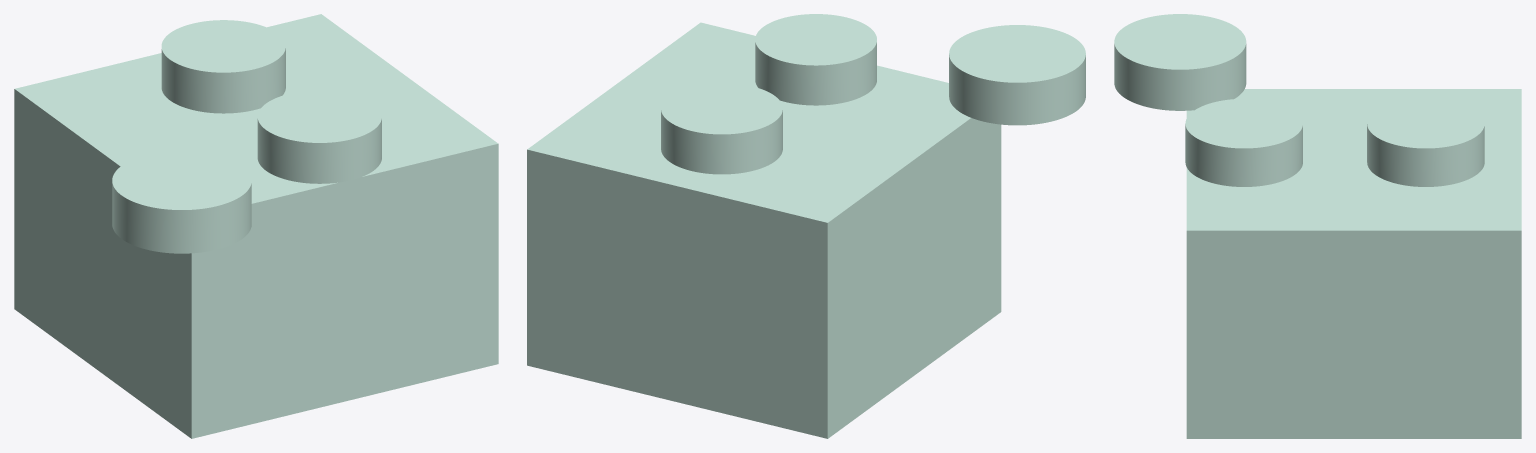
The picture shows the model from 3 angles, left to right: view 1: azimuth 30°, elevation 25°; view 2: azimuth 150°, elevation 25°; view 3: azimuth 270°, elevation 25°; orthographic projection. The views are drawn at different scales.
Visible parts, largest first — view 1: Renderer Node; view 2: Renderer Node; view 3: Renderer Node.
Part boxes in pixels (x1=…): Renderer Node: x1=14, y1=14, x2=498, y2=438; Renderer Node: x1=527, y1=14, x2=1085, y2=438; Renderer Node: x1=1114, y1=14, x2=1521, y2=438.
Size of the model in its own units: 1.14 by 0.7578 by 1.12.
